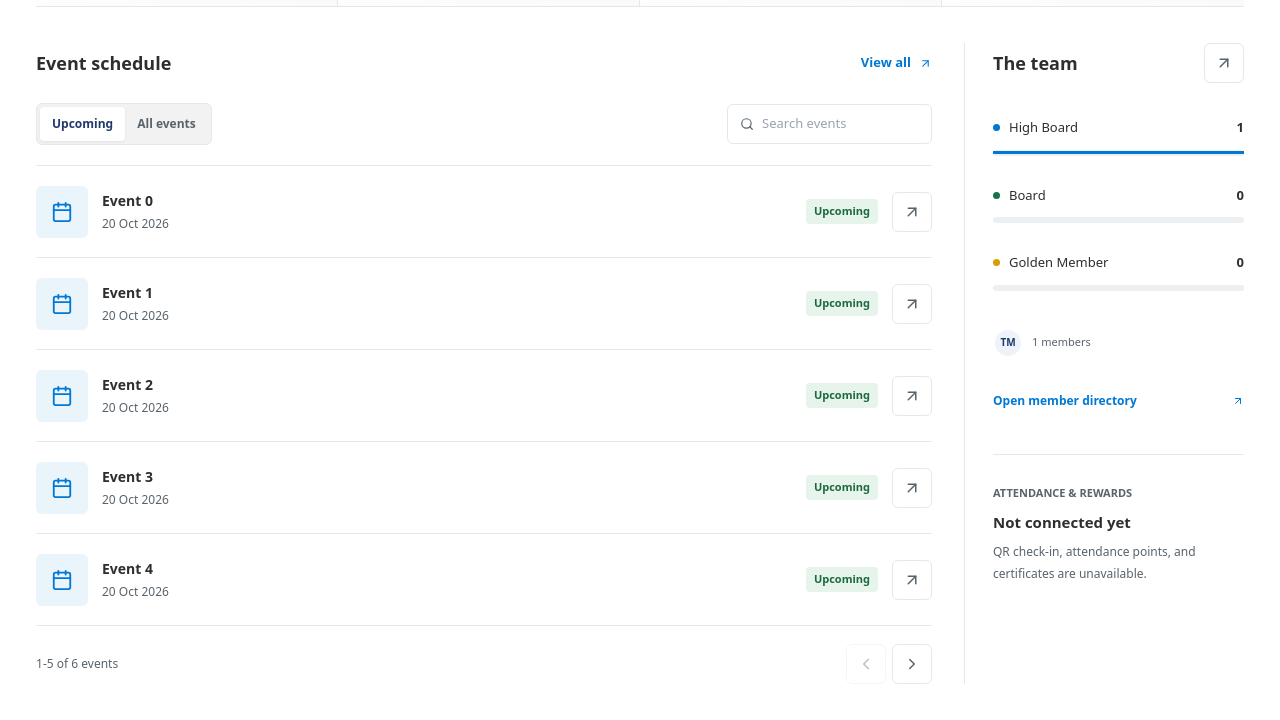
Test: paginates the schedule
The image size is (1280, 720).
(page scrolled)
Expected: the text "1-5 of 6 events" is shown, [36,655,118,673]
Click the button named "Next page".
click(912, 664)  # box [892,644,932,684]
(page scrolled)
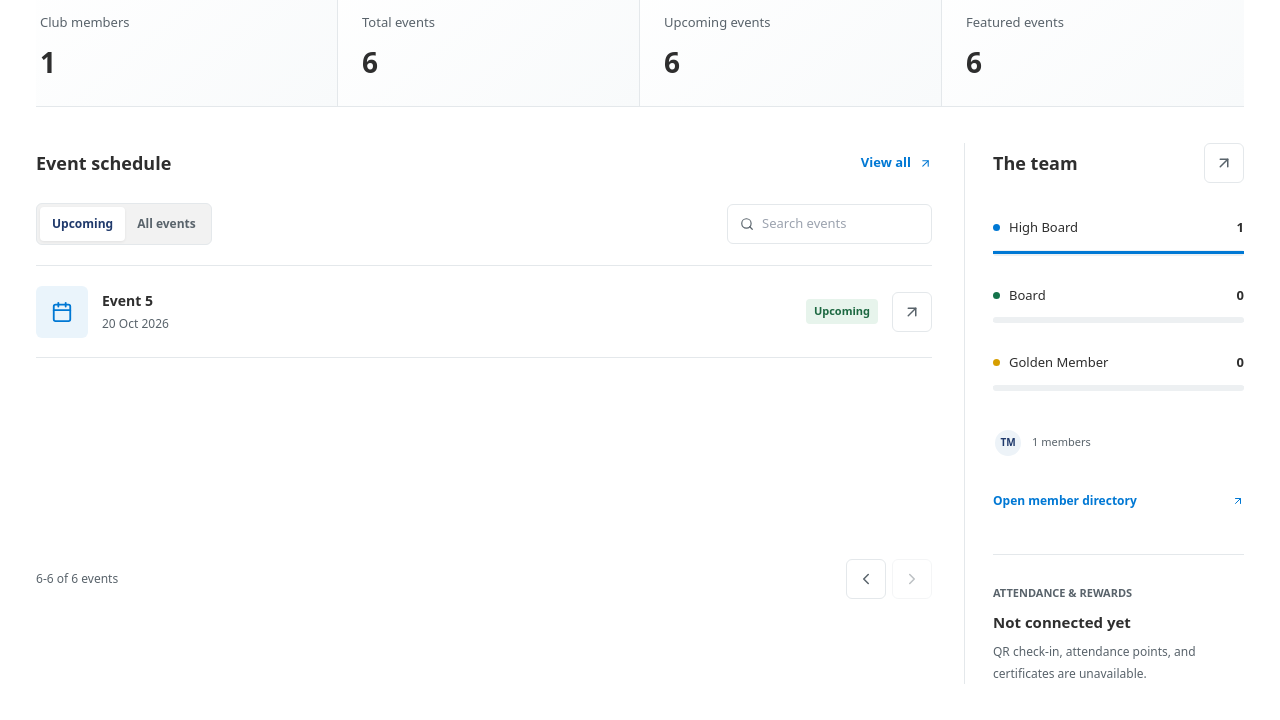
Expected: the text "6-6 of 6 events" is shown, [36,570,118,588]
Expected: the button named "Next page" is disabled, [892,559,932,599]
